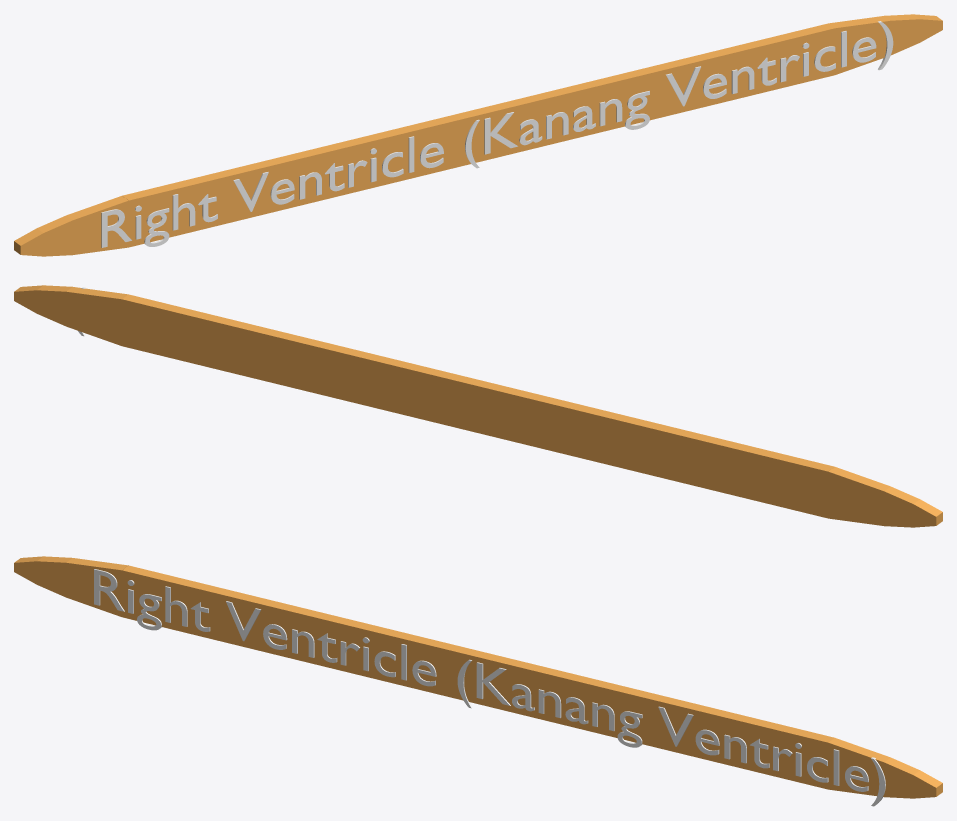
File: txtRightVentricle.fbx
3 views of the same model, one above another, from view 1: azimuth 30°, elevation 25°; view 2: azimuth 150°, elevation 25°; view 3: azimuth 330°, elevation 25° (orthographic).
Parts seen in each view (by area): view 1: TagContainer.103, Text.105; view 2: TagContainer.103; view 3: TagContainer.103, Text.105.
Boxes of the visible parts, x1,y1,x2,y2 form: TagContainer.103: (14, 14, 942, 256); Text.105: (101, 21, 893, 247); TagContainer.103: (14, 285, 942, 527); TagContainer.103: (14, 556, 942, 798); Text.105: (94, 569, 885, 806).
Bounding box in the file's own units: 849 × 45.81 × 11.84.
